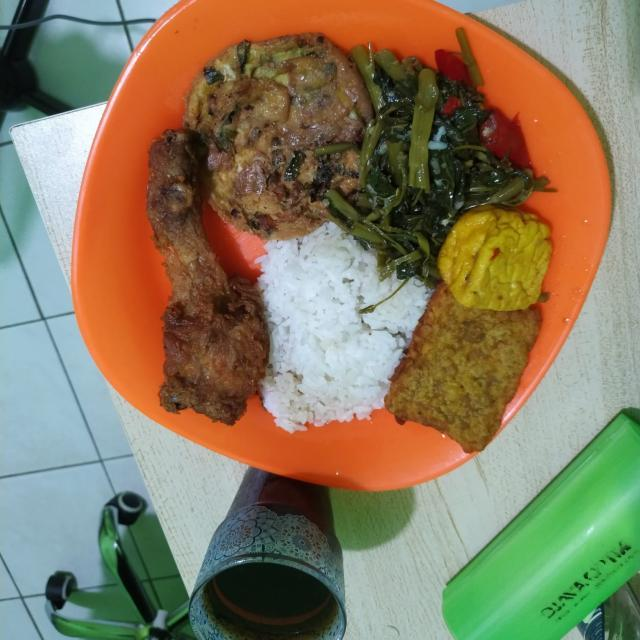ayam_goreng: (117, 127, 286, 463)
nasi_putih: (243, 237, 443, 475)
telur_ayam_dadar: (159, 28, 351, 256)
